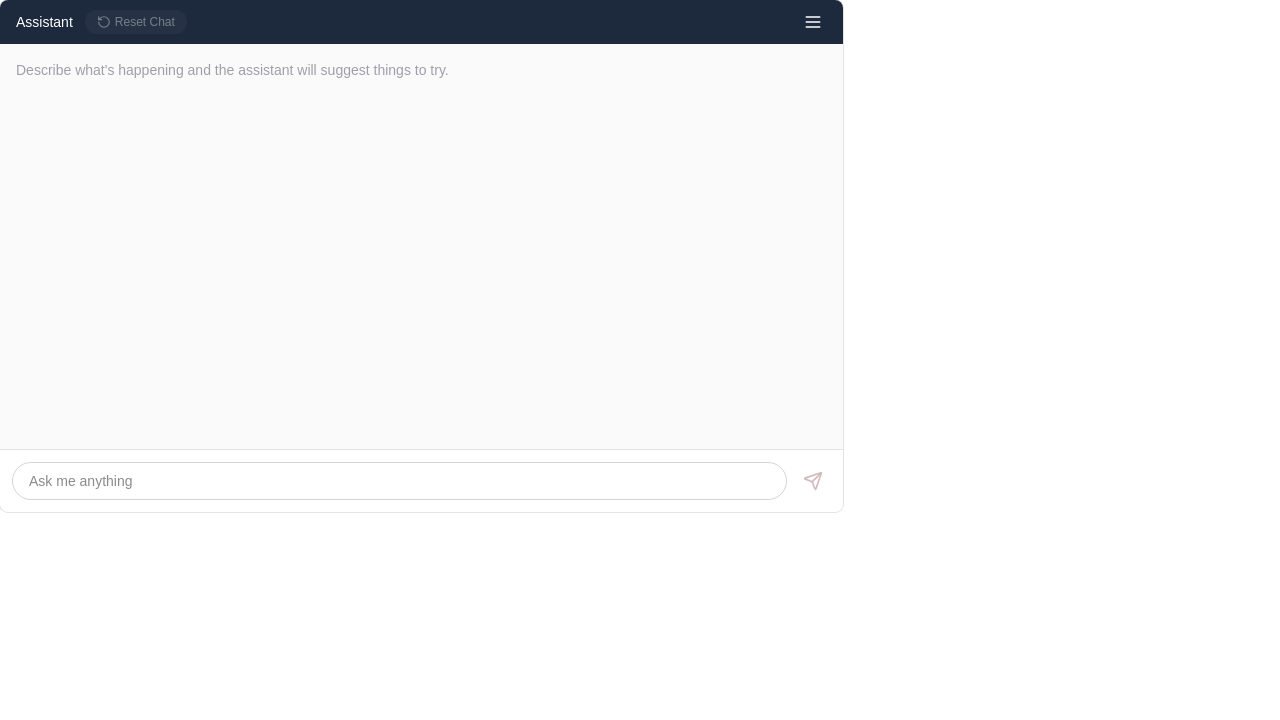
Test: toggles the context drawer from the menu button
Expected: the text "ben's info" is not shown
Click the button named "show ben's info" at (813, 22), box x1=799 y1=8 x2=827 y2=36
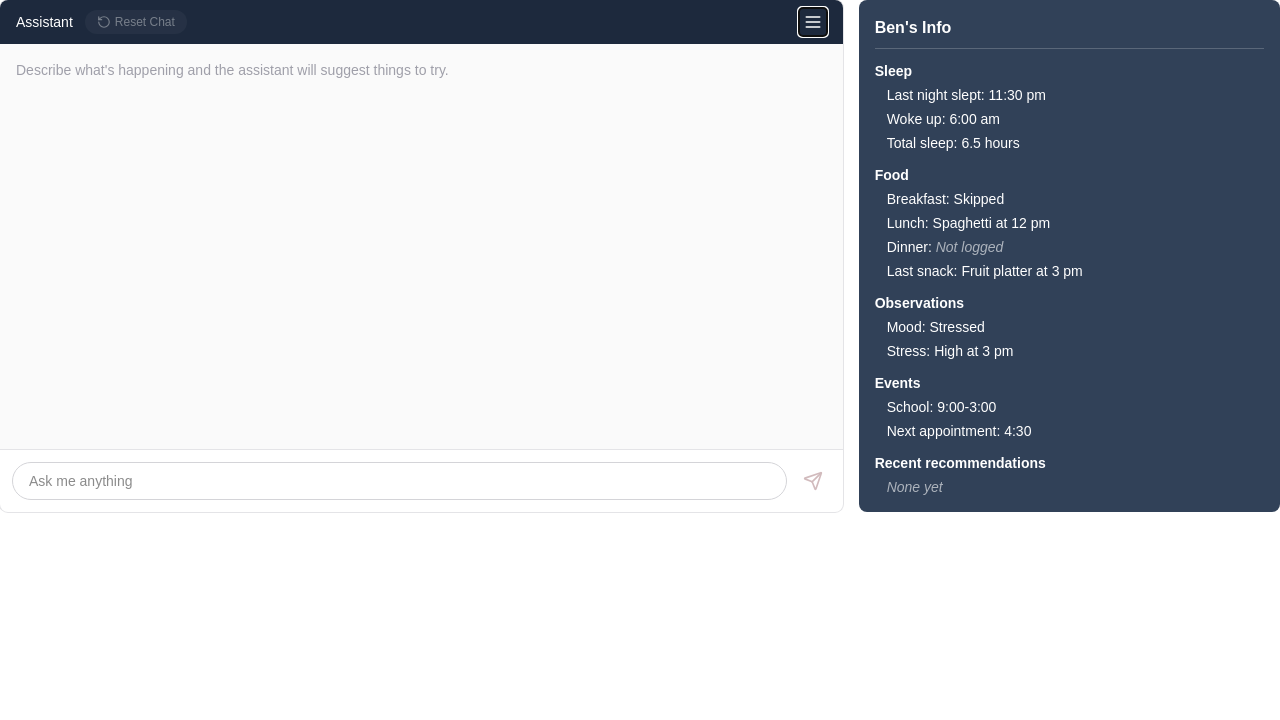
Now the heading "Ben's Info" is shown, box x1=875 y1=16 x2=951 y2=40
Now the text "Total sleep: 6.5 hours" is shown, box x1=887 y1=135 x2=1020 y2=151
